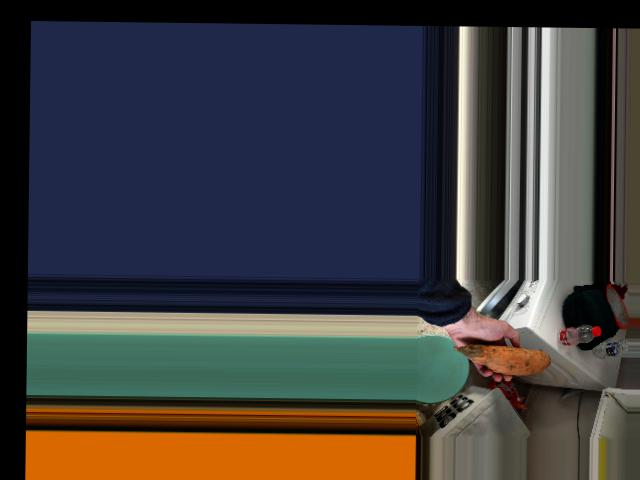sweet_potato: (464, 341, 541, 375)
